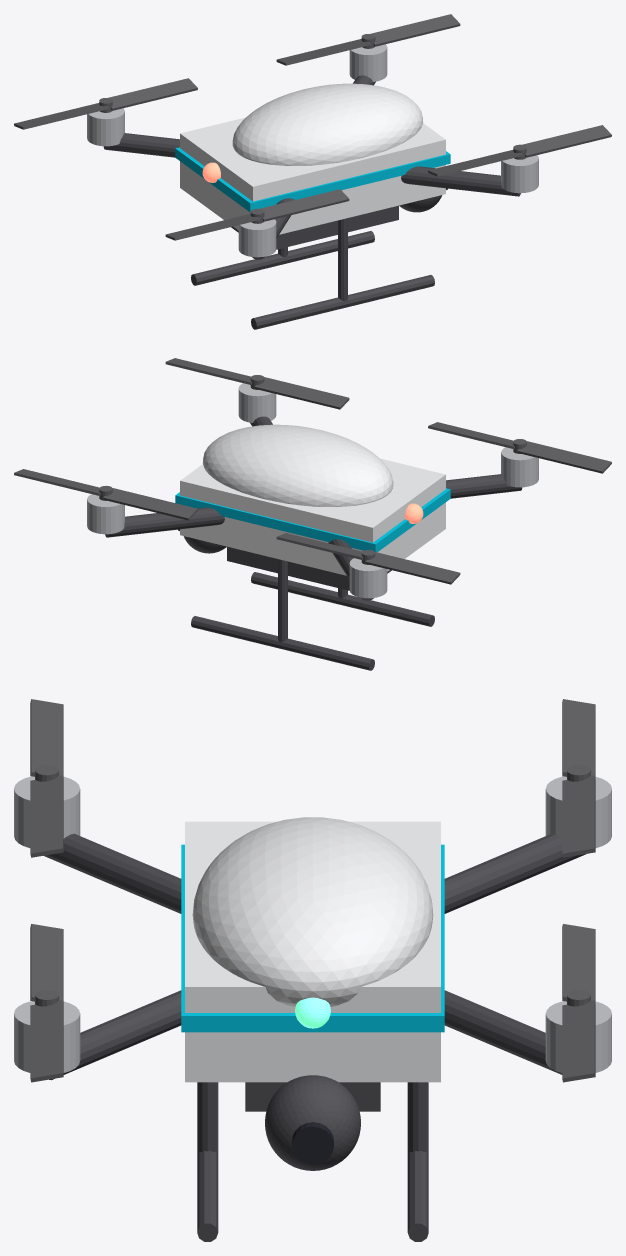
File: drone.glb
The picture shows the model from 3 angles, top to bottom: view 1: azimuth 30°, elevation 25°; view 2: azimuth 150°, elevation 25°; view 3: azimuth 270°, elevation 25°; orthographic projection. The views are drawn at different scales.
Visible parts, largest first — view 1: body, canopy, gear_l, stripe, gear_r, prop_2, prop_4, prop_1, prop_3, arm_1, battery, motor_2 (+4 smaller); view 2: body, canopy, gear_r, stripe, gear_l, prop_3, prop_1, prop_4, prop_2, arm_4, battery, motor_3 (+4 smaller); view 3: canopy, body, stripe, gimbal, prop_1, prop_4, prop_3, prop_2, arm_2, arm_3, arm_1, arm_4 (+9 smaller).
Part boxes in pixels (bbox=[...]): body: bbox=[180, 117, 445, 234]; canopy: bbox=[232, 83, 422, 165]; gear_l: bbox=[251, 218, 434, 329]; stripe: bbox=[175, 147, 450, 212]; gear_r: bbox=[191, 231, 374, 285]; prop_2: bbox=[165, 189, 349, 240]; prop_4: bbox=[276, 14, 460, 65]; prop_1: bbox=[428, 125, 611, 176]; prop_3: bbox=[14, 78, 197, 129]; arm_1: bbox=[401, 166, 520, 196]; battery: bbox=[231, 205, 398, 249]; motor_2: bbox=[238, 219, 276, 257]; body: bbox=[180, 458, 445, 575]; canopy: bbox=[203, 424, 393, 506]; gear_r: bbox=[191, 559, 374, 670]; stripe: bbox=[175, 488, 450, 552]; gear_l: bbox=[251, 572, 434, 626]; prop_3: bbox=[276, 533, 460, 584]; prop_1: bbox=[165, 358, 349, 409]; prop_4: bbox=[14, 469, 197, 520]; prop_2: bbox=[428, 422, 611, 473]; arm_4: bbox=[105, 507, 224, 537]; battery: bbox=[227, 546, 391, 590]; motor_3: bbox=[349, 558, 387, 598]; canopy: bbox=[192, 817, 433, 1006]; body: bbox=[185, 821, 440, 1082]; stripe: bbox=[181, 844, 444, 1032]; gimbal: bbox=[265, 1075, 360, 1170]; prop_1: bbox=[30, 924, 63, 1082]; prop_4: bbox=[562, 924, 595, 1082]; prop_3: bbox=[562, 699, 595, 857]; prop_2: bbox=[30, 699, 63, 857]; arm_2: bbox=[43, 833, 181, 913]; arm_3: bbox=[444, 833, 585, 913]; arm_1: bbox=[49, 990, 181, 1080]; arm_4: bbox=[444, 990, 562, 1074].
Size of the model in its own units: 0.5886 by 0.2382 by 0.3976.
